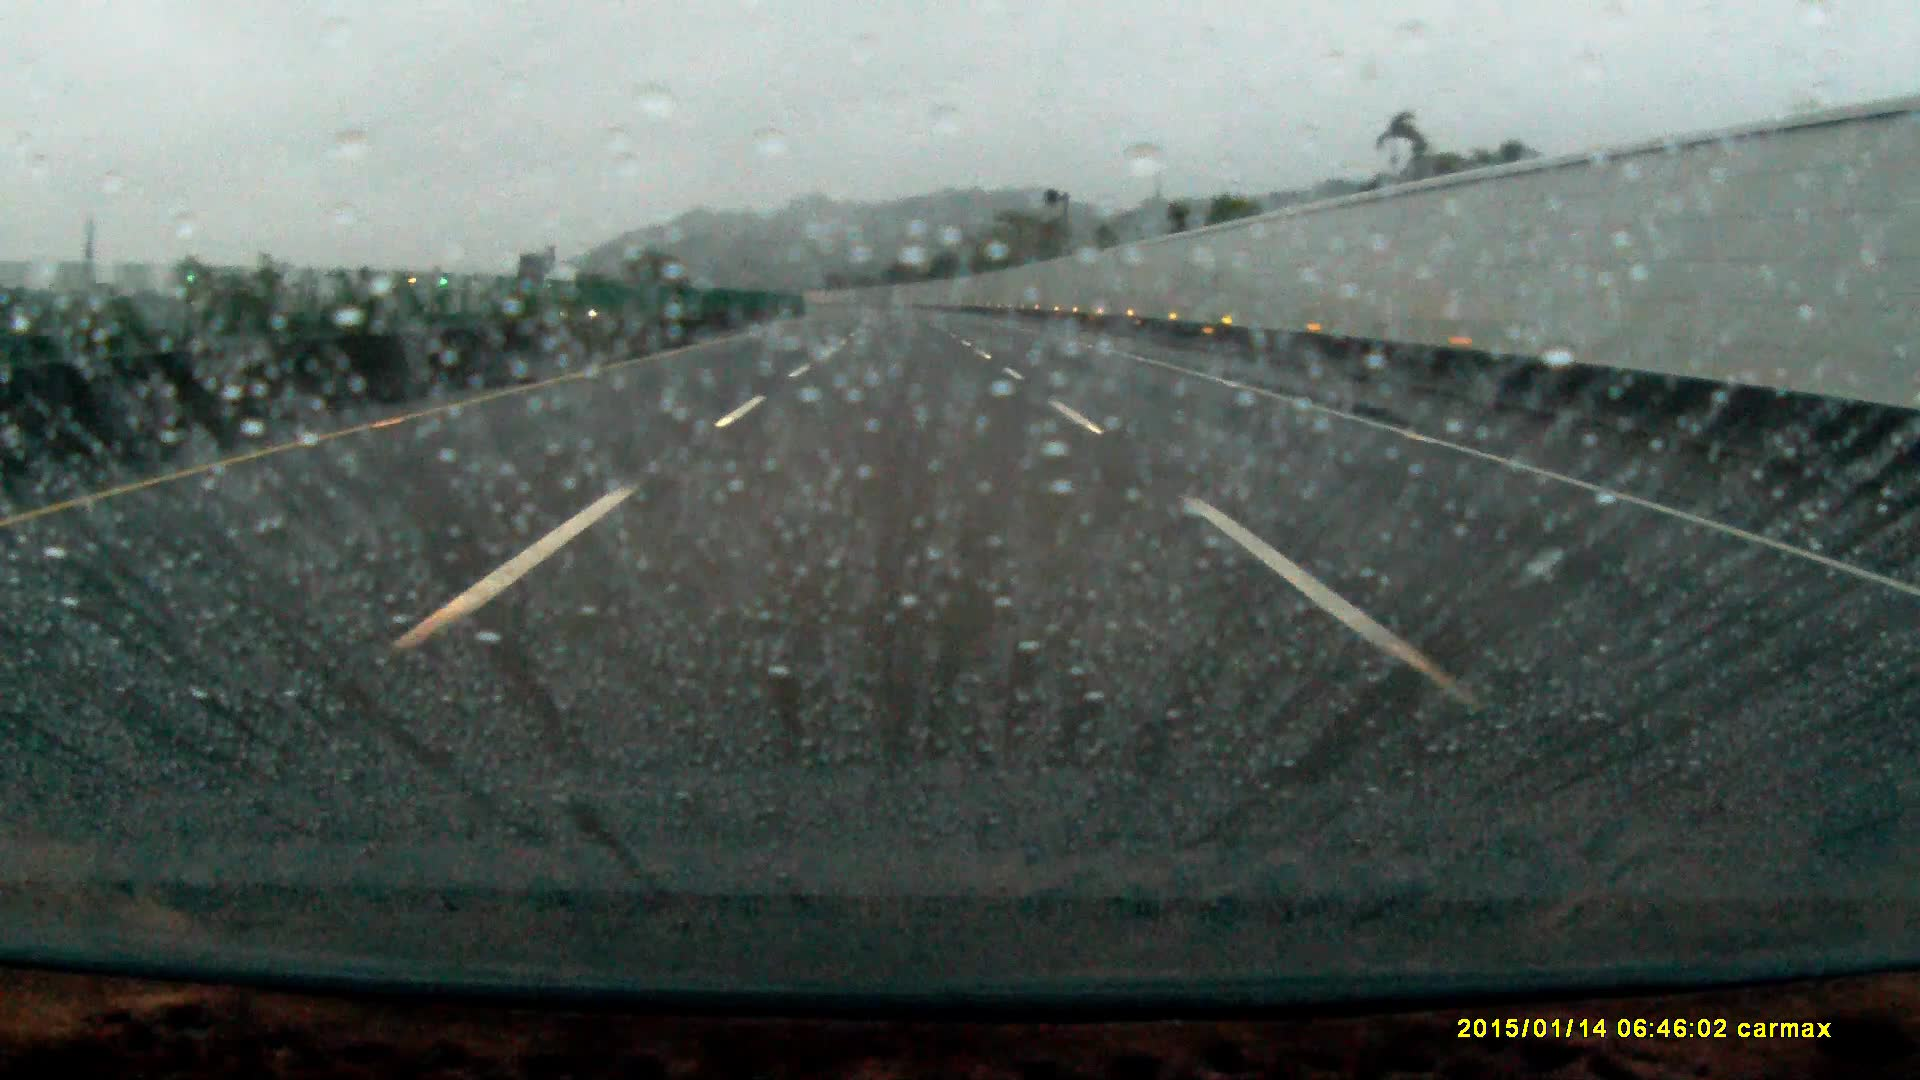vehicle: (568, 290, 626, 320)
